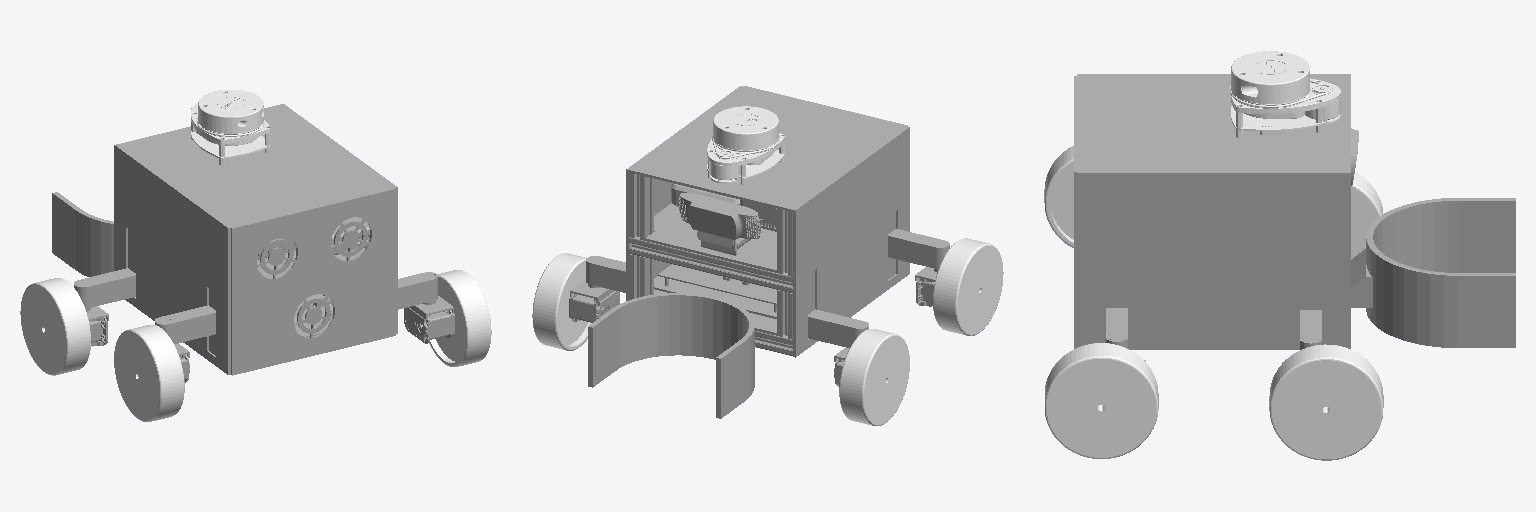
URDF robot description (new_sus):
<?xml version="1.0" encoding="utf-8"?>
<!-- This URDF was automatically created by SolidWorks to URDF Exporter! Originally created by [author] ([email redacted]) 
     Commit Version: 1.5.1-0-g916b5db  Build Version: 1.5.7152.31018
     For more information, please see http://wiki.ros.org/sw_urdf_exporter -->
<robot
  name="new_sus">
  <link
    name="base_link">
    <inertial>
      <origin
        xyz="-0.101222450007234 -0.134712291964518 0.0611878805385779"
        rpy="0 0 0" />
      <mass
        value="5.04599768700974" />
      <inertia
        ixx="0.0199585188421209"
        ixy="8.49633695552715E-07"
        ixz="3.57924483955386E-07"
        iyy="0.0133780567917248"
        iyz="-8.69413175240184E-06"
        izz="0.0204011323429147" />
    </inertial>
    <visual>
      <origin
        xyz="0 0 0"
        rpy="0 0 0" />
      <geometry>
        <mesh
          filename="package://new_sus/meshes/base_link.STL" />
      </geometry>
      <material
        name="">
        <color
          rgba="0.752941176470588 0.752941176470588 0.752941176470588 1" />
      </material>
    </visual>
    <collision>
      <origin
        xyz="0 0 0"
        rpy="0 0 0" />
      <geometry>
        <mesh
          filename="package://new_sus/meshes/base_link.STL" />
      </geometry>
    </collision>
  </link>
  <link
    name="RFW">
    <inertial>
      <origin
        xyz="0.0176842754269317 0.00317905396079527 -0.000103745604902616"
        rpy="0 0 0" />
      <mass
        value="0.193585420779862" />
      <inertia
        ixx="0.000253081141332253"
        ixy="-7.98059977897464E-24"
        ixz="4.95236102613101E-21"
        iyy="0.000136818598566517"
        iyz="4.2351647362715E-22"
        izz="0.000136818598566517" />
    </inertial>
    <visual>
      <origin
        xyz="0 0 0"
        rpy="0 0 0" />
      <geometry>
        <mesh
          filename="package://new_sus/meshes/RFW.STL" />
      </geometry>
      <material
        name="">
        <color
          rgba="1 1 1 1" />
      </material>
    </visual>
    <collision>
      <origin
        xyz="0 0 0"
        rpy="0 0 0" />
      <geometry>
        <mesh
          filename="package://new_sus/meshes/RFW.STL" />
      </geometry>
    </collision>
  </link>
  <joint
    name="RFW"
    type="continuous">
    <origin
      xyz="0.071753 -0.021399 -0.034801"
      rpy="1.6034 0 0" />
    <parent
      link="base_link" />
    <child
      link="RFW" />
    <axis
      xyz="1 0 0" />
    <limit
      effort="3.1"
      velocity="7" />
  </joint>
  <link
    name="LFW">
    <inertial>
      <origin
        xyz="0.0176842754249047 -0.00098214776682639 0.00237717934481885"
        rpy="0 0 0" />
      <mass
        value="0.193585420779862" />
      <inertia
        ixx="0.000253081141332254"
        ixy="-1.35754373945964E-19"
        ixz="-8.02909614531217E-19"
        iyy="0.000136818598566517"
        iyz="-1.01643953670516E-20"
        izz="0.000136818598566517" />
    </inertial>
    <visual>
      <origin
        xyz="0 0 0"
        rpy="0 0 0" />
      <geometry>
        <mesh
          filename="package://new_sus/meshes/LFW.STL" />
      </geometry>
      <material
        name="">
        <color
          rgba="1 1 1 1" />
      </material>
    </visual>
    <collision>
      <origin
        xyz="0 0 0"
        rpy="0 0 0" />
      <geometry>
        <mesh
          filename="package://new_sus/meshes/LFW.STL" />
      </geometry>
    </collision>
  </link>
  <joint
    name="LFW"
    type="continuous">
    <origin
      xyz="-0.27175 -0.021399 -0.034803"
      rpy="-0.3918 0 3.1416" />
    <parent
      link="base_link" />
    <child
      link="LFW" />
    <axis
      xyz="1 0 0" />
    <limit
      effort="3.1"
      velocity="7" />
  </joint>
  <link
    name="RBW">
    <inertial>
      <origin
        xyz="0.017684 0.0043791 0.0016749"
        rpy="0 0 0" />
      <mass
        value="0.19359" />
      <inertia
        ixx="0.00025308"
        ixy="7.1711E-19"
        ixz="5.478E-19"
        iyy="0.00013682"
        iyz="0"
        izz="0.00013682" />
    </inertial>
    <visual>
      <origin
        xyz="0 0 0"
        rpy="0 0 0" />
      <geometry>
        <mesh
          filename="package://new_sus/meshes/RBW.STL" />
      </geometry>
      <material
        name="">
        <color
          rgba="1 1 1 1" />
      </material>
    </visual>
    <collision>
      <origin
        xyz="0 0 0"
        rpy="0 0 0" />
      <geometry>
        <mesh
          filename="package://new_sus/meshes/RBW.STL" />
      </geometry>
    </collision>
  </link>
  <joint
    name="RBW"
    type="continuous">
    <origin
      xyz="0.071753 -0.2186 -0.034803"
      rpy="1.2055 0 0" />
    <parent
      link="base_link" />
    <child
      link="RBW" />
    <axis
      xyz="1 0 0" />
    <limit
      effort="3.1"
      velocity="7" />
  </joint>
  <link
    name="LBW">
    <inertial>
      <origin
        xyz="0.017684 -0.010085 0.02598"
        rpy="0 0 0" />
      <mass
        value="0.19359" />
      <inertia
        ixx="0.00025308"
        ixy="1.7293E-20"
        ixz="-3.6518E-21"
        iyy="0.00013682"
        iyz="-1.3553E-20"
        izz="0.00013682" />
    </inertial>
    <visual>
      <origin
        xyz="0 0 0"
        rpy="0 0 0" />
      <geometry>
        <mesh
          filename="package://new_sus/meshes/LBW.STL" />
      </geometry>
      <material
        name="">
        <color
          rgba="1 1 1 1" />
      </material>
    </visual>
    <collision>
      <origin
        xyz="0 0 0"
        rpy="0 0 0" />
      <geometry>
        <mesh
          filename="package://new_sus/meshes/LBW.STL" />
      </geometry>
    </collision>
  </link>
  <joint
    name="LBW"
    type="continuous">
    <origin
      xyz="-0.27175 -0.218 -0.034801"
      rpy="-0.3918 0 3.1416" />
    <parent
      link="base_link" />
    <child
      link="LBW" />
    <axis
      xyz="1 0 0" />
    <limit
      effort="3.1"
      velocity="7" />
  </joint>
  <link
    name="RFS">
    <inertial>
      <origin
        xyz="0.072447 -0.031683 0.02534"
        rpy="0 0 0" />
      <mass
        value="0.26437" />
      <inertia
        ixx="3.2075E-05"
        ixy="1.4412E-07"
        ixz="6.3085E-08"
        iyy="6.227E-05"
        iyz="-2.0189E-07"
        izz="6.2852E-05" />
    </inertial>
    <visual>
      <origin
        xyz="0 0 0"
        rpy="0 0 0" />
      <geometry>
        <mesh
          filename="package://new_sus/meshes/RFS.STL" />
      </geometry>
      <material
        name="">
        <color
          rgba="0.75294 0.75294 0.75294 1" />
      </material>
    </visual>
    <collision>
      <origin
        xyz="0 0 0"
        rpy="0 0 0" />
      <geometry>
        <mesh
          filename="package://new_sus/meshes/RFS.STL" />
      </geometry>
    </collision>
  </link>
  <joint
    name="RFS"
    type="prismatic">
    <origin
      xyz="0.10792 -0.012126 0.032608"
      rpy="2.834 0 -3.1416" />
    <parent
      link="base_link" />
    <child
      link="RFS" />
    <axis
      xyz="0 0.3028 -0.95305" />
    <limit
      lower="0"
      upper="0"
      effort="0"
      velocity="0" />
  </joint>
  <link
    name="LFS">
    <inertial>
      <origin
        xyz="0.066688 -0.025617 0.027258"
        rpy="0 0 0" />
      <mass
        value="0.26437" />
      <inertia
        ixx="3.2075E-05"
        ixy="-1.4412E-07"
        ixz="-6.3085E-08"
        iyy="6.227E-05"
        iyz="-2.0189E-07"
        izz="6.2852E-05" />
    </inertial>
    <visual>
      <origin
        xyz="0 0 0"
        rpy="0 0 0" />
      <geometry>
        <mesh
          filename="package://new_sus/meshes/LFS.STL" />
      </geometry>
      <material
        name="">
        <color
          rgba="0.75294 0.75294 0.75294 1" />
      </material>
    </visual>
    <collision>
      <origin
        xyz="0 0 0"
        rpy="0 0 0" />
      <geometry>
        <mesh
          filename="package://new_sus/meshes/LFS.STL" />
      </geometry>
    </collision>
  </link>
  <joint
    name="LFS"
    type="prismatic">
    <origin
      xyz="-0.30216 -0.05081 0.031999"
      rpy="2.834 0 0" />
    <parent
      link="base_link" />
    <child
      link="LFS" />
    <axis
      xyz="0 0.3028 -0.95305" />
    <limit
      lower="0"
      upper="0"
      effort="0"
      velocity="0" />
  </joint>
  <link
    name="RBS">
    <inertial>
      <origin
        xyz="0.0666875210853819 -0.0256174029954352 0.0272583251967587"
        rpy="0 0 0" />
      <mass
        value="0.26437001106024" />
      <inertia
        ixx="3.20746276473134E-05"
        ixy="-1.44118283521415E-07"
        ixz="-6.30853084344922E-08"
        iyy="6.22704126338856E-05"
        iyz="-2.01894652764204E-07"
        izz="6.28519936954001E-05" />
    </inertial>
    <visual>
      <origin
        xyz="0 0 0"
        rpy="0 0 0" />
      <geometry>
        <mesh
          filename="package://new_sus/meshes/RBS.STL" />
      </geometry>
      <material
        name="">
        <color
          rgba="0.752941176470588 0.752941176470588 0.752941176470588 1" />
      </material>
    </visual>
    <collision>
      <origin
        xyz="0 0 0"
        rpy="0 0 0" />
      <geometry>
        <mesh
          filename="package://new_sus/meshes/RBS.STL" />
      </geometry>
    </collision>
  </link>
  <joint
    name="RBS"
    type="prismatic">
    <origin
      xyz="0.10216 -0.18919 0.034116"
      rpy="2.834 0 -3.1416" />
    <parent
      link="base_link" />
    <child
      link="RBS" />
    <axis
      xyz="0 0.3028 -0.95305" />
    <limit
      lower="0"
      upper="0"
      effort="0"
      velocity="0" />
  </joint>
  <link
    name="LBS">
    <inertial>
      <origin
        xyz="0.072447 -0.0024231 -0.066755"
        rpy="0 0 0" />
      <mass
        value="0.26437" />
      <inertia
        ixx="3.2075E-05"
        ixy="1.4412E-07"
        ixz="6.3085E-08"
        iyy="6.227E-05"
        iyz="-2.0189E-07"
        izz="6.2852E-05" />
    </inertial>
    <visual>
      <origin
        xyz="0 0 0"
        rpy="0 0 0" />
      <geometry>
        <mesh
          filename="package://new_sus/meshes/LBS.STL" />
      </geometry>
      <material
        name="">
        <color
          rgba="0.75294 0.75294 0.75294 1" />
      </material>
    </visual>
    <collision>
      <origin
        xyz="0 0 0"
        rpy="0 0 0" />
      <geometry>
        <mesh
          filename="package://new_sus/meshes/LBS.STL" />
      </geometry>
    </collision>
  </link>
  <joint
    name="LBS"
    type="prismatic">
    <origin
      xyz="-0.30792 -0.22787 -0.039342"
      rpy="2.834 0 0" />
    <parent
      link="base_link" />
    <child
      link="LBS" />
    <axis
      xyz="0 0.3028 -0.95305" />
    <limit
      lower="0"
      upper="0"
      effort="0"
      velocity="0" />
  </joint>
  <link
    name="Camera">
    <inertial>
      <origin
        xyz="-0.023886 -0.025501 0.093335"
        rpy="0 0 0" />
      <mass
        value="0.084224" />
      <inertia
        ixx="1.3967E-05"
        ixy="-8.8168E-10"
        ixz="-1.0104E-09"
        iyy="3.6726E-05"
        iyz="-1.5151E-06"
        izz="3.0115E-05" />
    </inertial>
    <visual>
      <origin
        xyz="0 0 0"
        rpy="0 0 0" />
      <geometry>
        <mesh
          filename="package://new_sus/meshes/Camera.STL" />
      </geometry>
      <material
        name="">
        <color
          rgba="0.75294 0.75294 0.75294 1" />
      </material>
    </visual>
    <collision>
      <origin
        xyz="0 0 0"
        rpy="0 0 0" />
      <geometry>
        <mesh
          filename="package://new_sus/meshes/Camera.STL" />
      </geometry>
    </collision>
  </link>
  <joint
    name="Camera"
    type="fixed">
    <origin
      xyz="-0.13188 -0.10697 0.14474"
      rpy="1.7188 0 3.1056" />
    <parent
      link="base_link" />
    <child
      link="Camera" />
    <axis
      xyz="0 0 0" />
  </joint>
  <link
    name="RPLidar">
    <inertial>
      <origin
        xyz="0 0 0"
        rpy="0 0 0" />
      <mass
        value="0" />
      <inertia
        ixx="0"
        ixy="0"
        ixz="0"
        iyy="0"
        iyz="0"
        izz="0" />
    </inertial>
    <visual>
      <origin
        xyz="0 0 0"
        rpy="0 0 0" />
      <geometry>
        <mesh
          filename="package://new_sus/meshes/RPLidar.STL" />
      </geometry>
      <material
        name="">
        <color
          rgba="1 1 1 1" />
      </material>
    </visual>
    <collision>
      <origin
        xyz="0 0 0"
        rpy="0 0 0" />
      <geometry>
        <mesh
          filename="package://new_sus/meshes/RPLidar.STL" />
      </geometry>
    </collision>
  </link>
  <joint
    name="RPLidar"
    type="fixed">
    <origin
      xyz="-0.23716 0.016589 -0.56869"
      rpy="1.5708 0 1.5973" />
    <parent
      link="base_link" />
    <child
      link="RPLidar" />
    <axis
      xyz="0 0 0" />
  </joint>
</robot>

--- What the picture shows (computed from the rendered views, not written in the file) ---
Views: 3 orthographic renders of the robot side by side, from view 1: azimuth 30°, elevation 25°; view 2: azimuth 150°, elevation 25°; view 3: azimuth 270°, elevation 25°.
Model new_sus with 11 links and 10 joints (4 continuous, 4 prismatic, 2 fixed), rooted at base_link, posed all joints at 0.
Visible links, largest first — view 1: base_link, LBW, LFW, RPLidar, RBW, RBS, LFS, LBS; view 2: base_link, LFW, LBW, RPLidar, RFW, Camera, RFS, LBS, LFS; view 3: base_link, RFW, RBW, RPLidar, LBW, LFW, RBS, RFS.
Link boxes in pixels (bbox=[...]): base_link: bbox=[52, 104, 397, 375]; LBW: bbox=[114, 325, 184, 421]; LFW: bbox=[20, 278, 90, 375]; RPLidar: bbox=[190, 90, 270, 165]; RBW: bbox=[429, 270, 491, 366]; RBS: bbox=[398, 272, 454, 343]; LFS: bbox=[74, 268, 135, 346]; LBS: bbox=[155, 305, 215, 382]; base_link: bbox=[588, 86, 909, 418]; LFW: bbox=[839, 329, 909, 425]; LBW: bbox=[933, 238, 1003, 335]; RPLidar: bbox=[707, 106, 784, 185]; RFW: bbox=[532, 253, 591, 350]; Camera: bbox=[679, 193, 760, 255]; RFS: bbox=[569, 256, 625, 322]; LBS: bbox=[888, 229, 949, 306]; LFS: bbox=[808, 309, 868, 386]; base_link: bbox=[1074, 74, 1515, 349]; RFW: bbox=[1269, 344, 1383, 460]; RBW: bbox=[1045, 343, 1158, 458]; RPLidar: bbox=[1230, 51, 1340, 137]; LBW: bbox=[1044, 146, 1073, 247]; LFW: bbox=[1351, 172, 1382, 259]; RBS: bbox=[1106, 308, 1145, 361]; RFS: bbox=[1282, 310, 1321, 362].
Size in the robot's own frame: 0.4035 by 0.4129 by 0.2867 metres.
11 mesh visuals loaded from 11 distinct referenced files (11 binary STL).